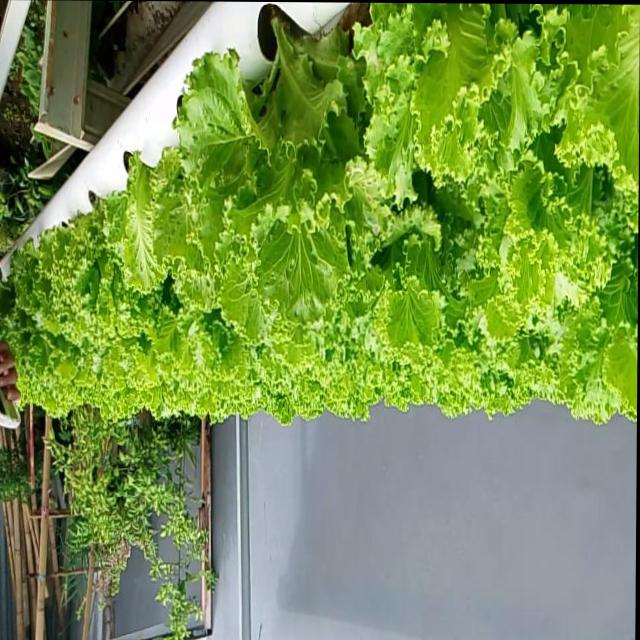Mature: (158, 8, 379, 339), (36, 191, 142, 354)
